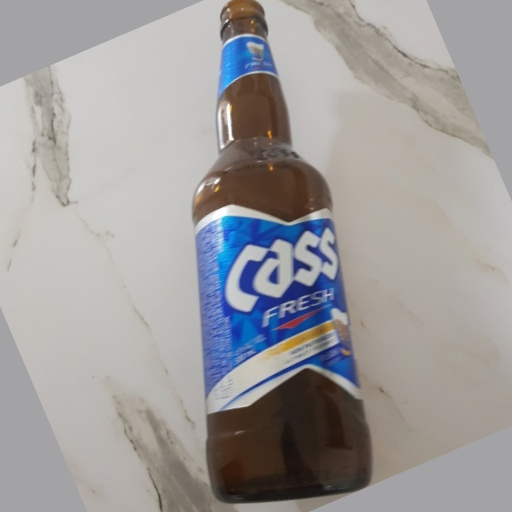Glass_1: (186, 1, 378, 503)
